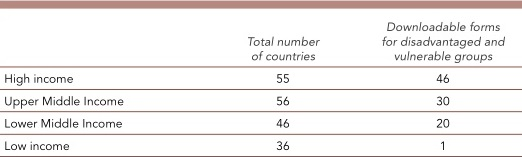column: (381, 1, 505, 157), (4, 1, 123, 156), (247, 1, 320, 157)
row: (1, 51, 522, 64), (1, 95, 522, 108), (1, 72, 522, 84), (1, 21, 522, 32), (1, 118, 522, 129), (2, 36, 522, 47), (1, 140, 520, 150)
